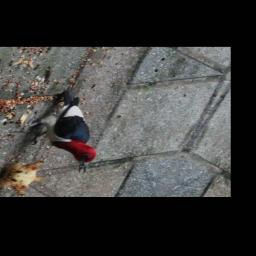Woodpecker: (0, 81, 137, 177)
